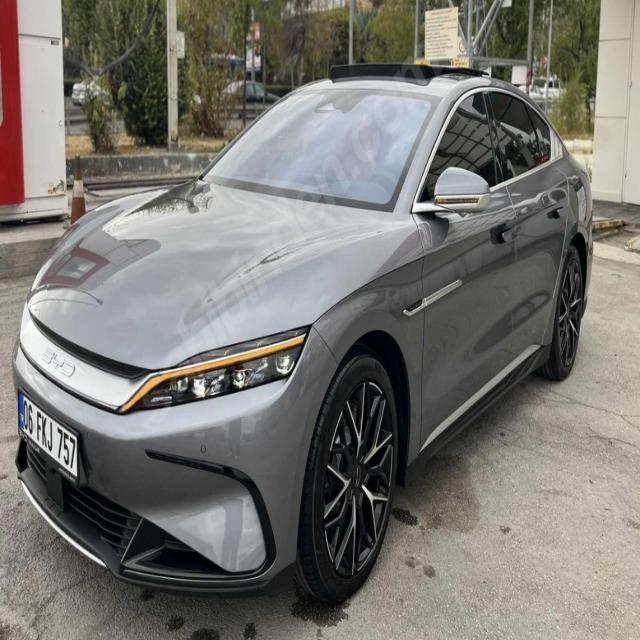byd: (36, 342, 81, 387)
